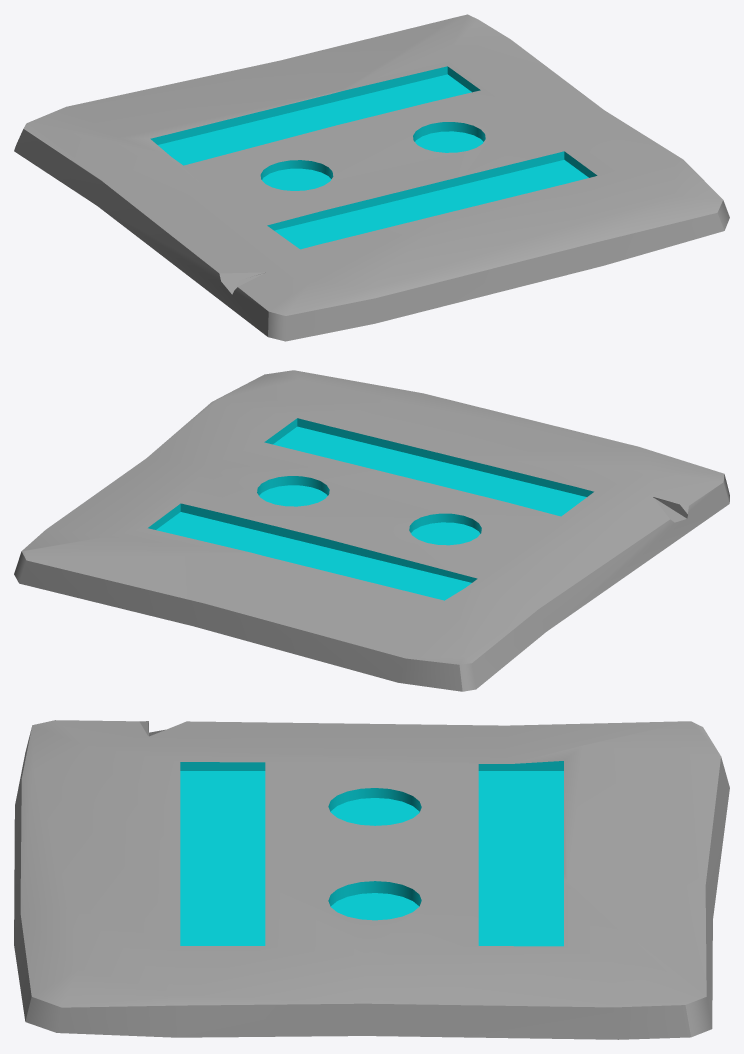
The model's file is dalle12.fbx.
3 views of the same model, one above another, from view 1: azimuth 30°, elevation 25°; view 2: azimuth 150°, elevation 25°; view 3: azimuth 270°, elevation 25° (orthographic). The views are drawn at different scales.
Visible parts, largest first — view 1: pCube5; view 2: pCube5; view 3: pCube5.
Part boxes in pixels (x1,y1,x2,y2): pCube5: (14,14,729,341); pCube5: (14,370,729,691); pCube5: (14,720,729,1039).
Bounding box in the file's own units: 6.99 × 0.4395 × 7.18.
